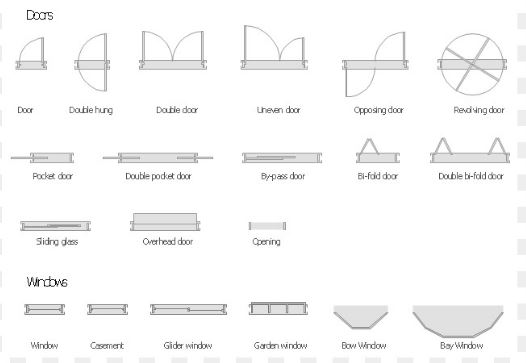door: (430, 21, 512, 98), (337, 21, 414, 100), (132, 22, 218, 83), (235, 13, 314, 78), (94, 140, 223, 170), (419, 129, 517, 167), (235, 139, 336, 170), (7, 143, 82, 170), (348, 132, 404, 168), (13, 34, 54, 78)
window: (77, 296, 139, 329), (147, 299, 231, 322), (241, 297, 315, 322), (18, 296, 69, 323)
